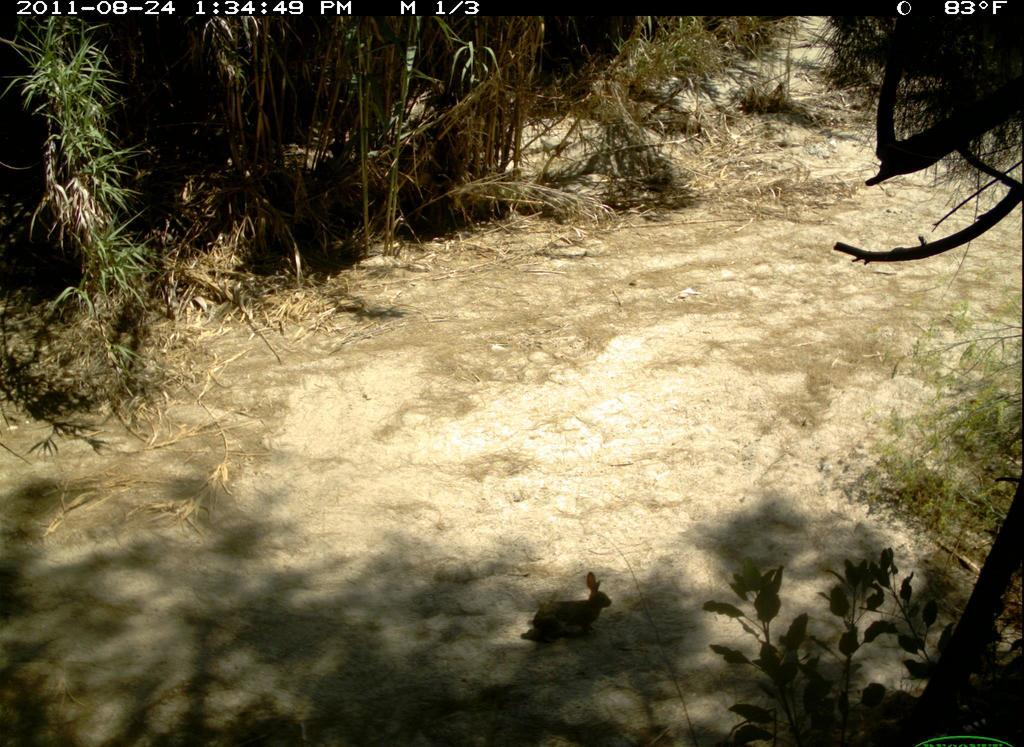rabbit: (532, 568, 619, 651)
